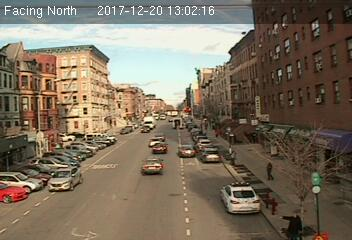car: (47, 165, 84, 191), (139, 157, 164, 176), (202, 147, 221, 164), (176, 144, 195, 158), (153, 143, 167, 153)
pedestrian: (265, 161, 274, 182)
police: (218, 180, 261, 215)
